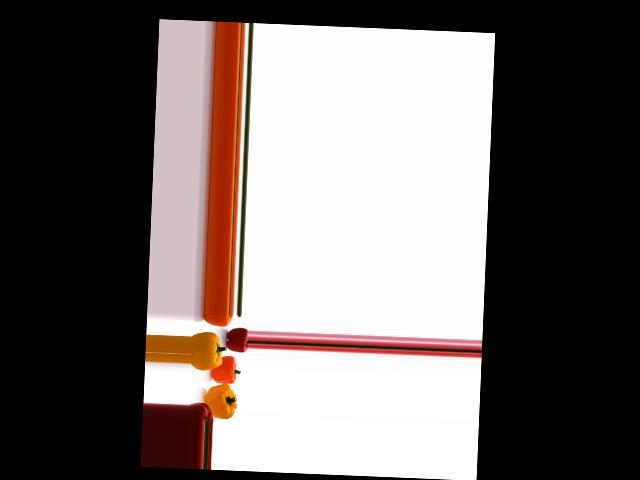bell_pepper: (202, 312, 234, 328)
